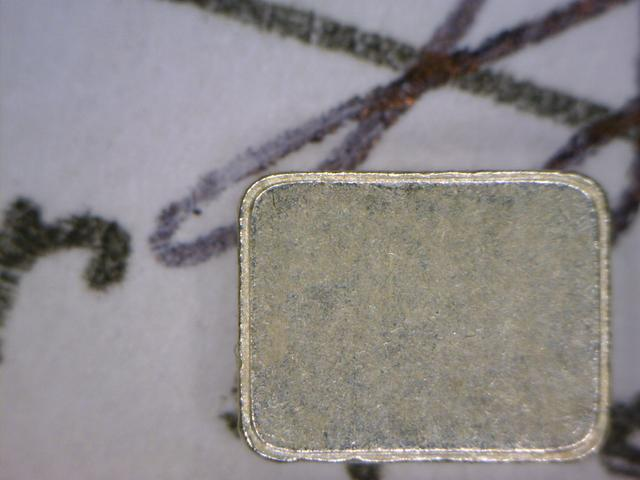nok: (229, 168, 621, 466)
